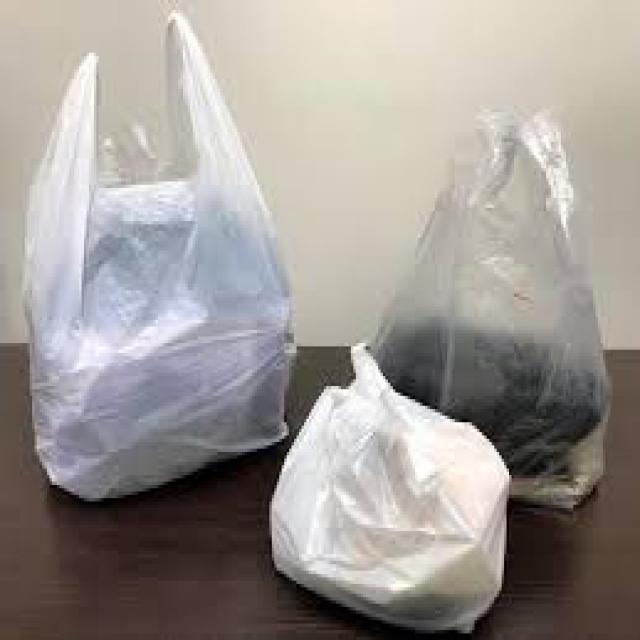Single-layer Plastic: (25, 12, 292, 499), (372, 111, 602, 474), (271, 345, 509, 632)
